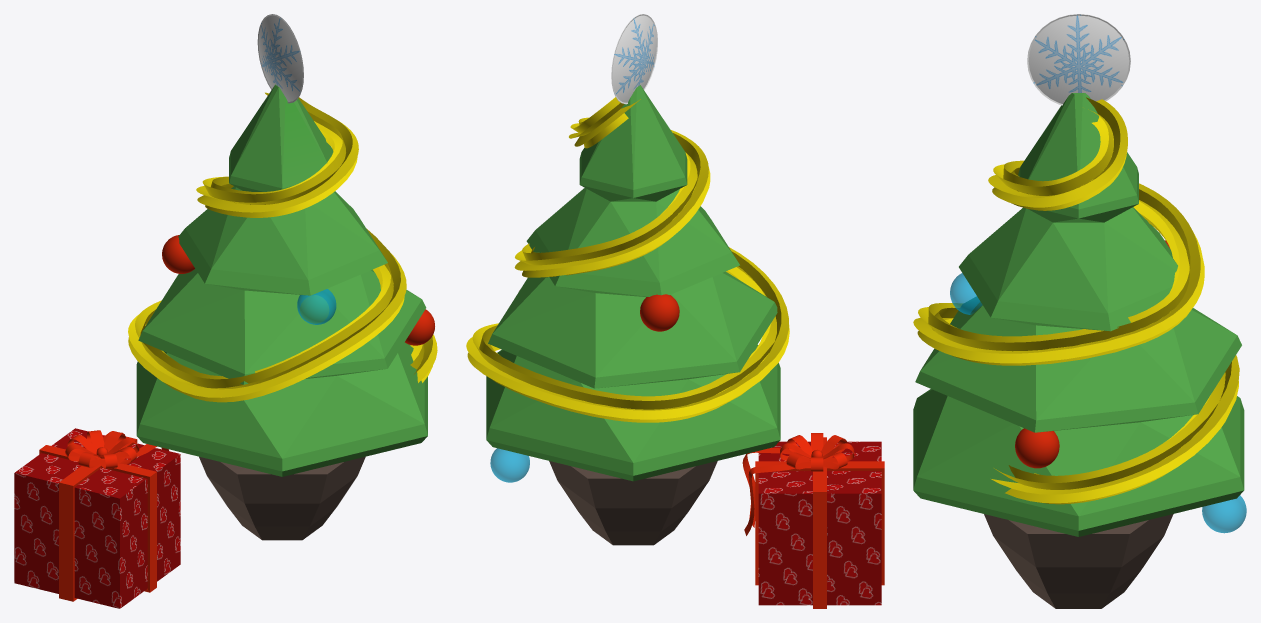
File: 1_2_Tree.dae
3 views of the same model, side by side, from view 1: azimuth 30°, elevation 25°; view 2: azimuth 150°, elevation 25°; view 3: azimuth 270°, elevation 25° (orthographic). The views are drawn at different scales.
Parts seen in each view (by area): view 1: Cylinder, GiftBox, NurbsPath, Cube, Cone, Bauble2, Bauble3, Bauble1; view 2: Cylinder, NurbsPath, GiftBox, Cube, Cone, Bauble3, Bauble4; view 3: Cylinder, NurbsPath, Cone, Bauble1, Bauble4, Bauble2.
Boxes of the visible parts, x1=… form: Cylinder: x1=136, y1=84, x2=427, y2=540; GiftBox: x1=14, y1=428, x2=180, y2=608; NurbsPath: x1=128, y1=92, x2=437, y2=402; Cube: x1=39, y1=430, x2=168, y2=601; Cone: x1=257, y1=14, x2=303, y2=103; Bauble2: x1=297, y1=289, x2=336, y2=324; Bauble3: x1=162, y1=235, x2=194, y2=273; Bauble1: x1=405, y1=309, x2=434, y2=345; Cylinder: x1=486, y1=85, x2=780, y2=545; NurbsPath: x1=466, y1=97, x2=789, y2=422; GiftBox: x1=758, y1=441, x2=881, y2=605; Cube: x1=742, y1=433, x2=884, y2=608; Cone: x1=611, y1=14, x2=657, y2=104; Bauble3: x1=640, y1=294, x2=679, y2=331; Bauble4: x1=490, y1=448, x2=529, y2=482; Cylinder: x1=913, y1=93, x2=1244, y2=608; NurbsPath: x1=913, y1=97, x2=1239, y2=504; Cone: x1=1027, y1=14, x2=1130, y2=105; Bauble1: x1=1015, y1=428, x2=1059, y2=468; Bauble4: x1=1202, y1=495, x2=1246, y2=533; Bauble2: x1=950, y1=273, x2=982, y2=314.
Bounding box in the file's own units: 15.37 × 9.65 × 18.64.
7 materials, 2 textured.
